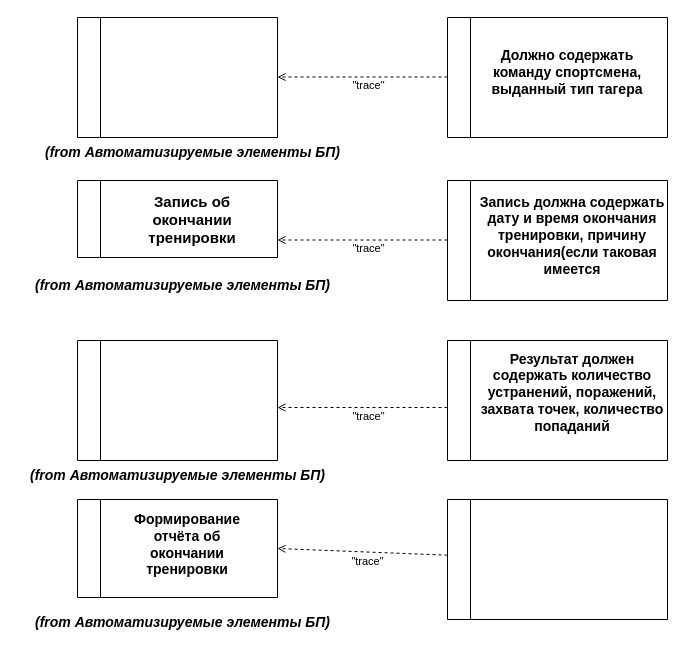
This 685x655 diagram has some shape labels left out. Each missing label, with the centre of its shape:
"Занесение результатов в общую таблицу результатов" goes at point 177,400.
"Отчёт должен соответствовать стандартам оформления отчёта окончанных тренировок" goes at point 557,559.
"Регистрация спортсмена в электронной системе" goes at point 177,77.
